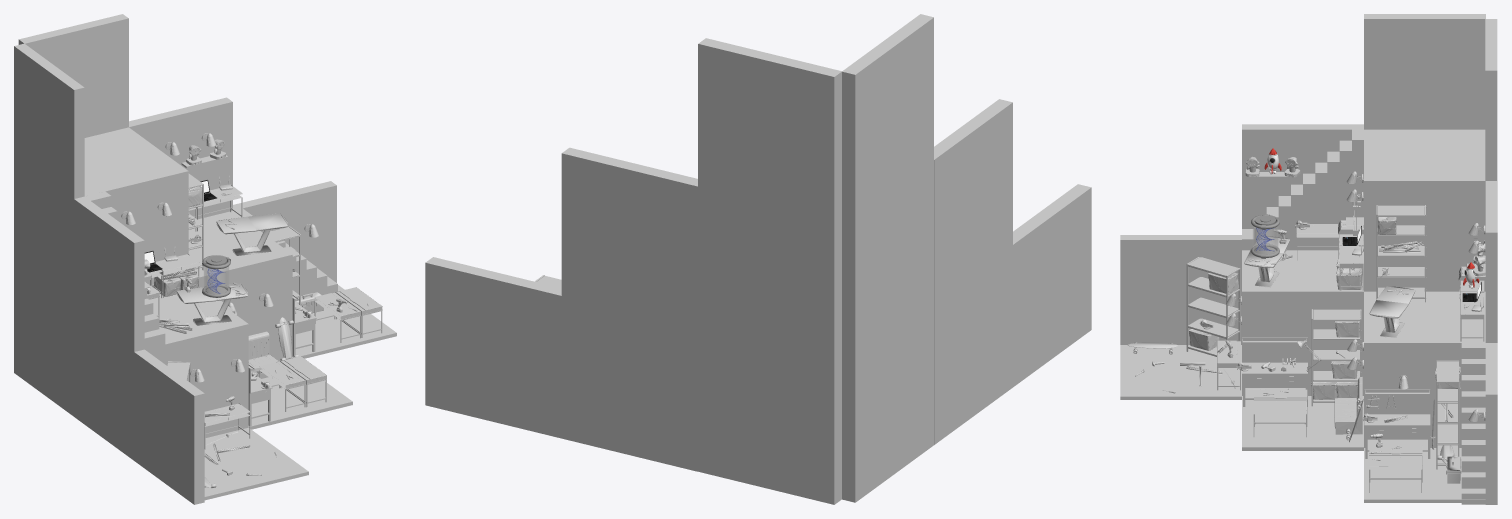
The model's file is display2.gltf.
The picture shows the model from 3 angles, left to right: view 1: azimuth 30°, elevation 25°; view 2: azimuth 150°, elevation 25°; view 3: azimuth 270°, elevation 25°; orthographic projection. The views are drawn at different scales.
Parts seen in each view (by area): view 1: Cube.008, Cube.014, Cube.005, Cube.019, Cube.012, Cube.013, Cube.004, Cube.006, Cube.021, Cube.018, Cube.001, Cube.017 (+18 smaller); view 2: Cube.013, Cube.008, Cube.006, Cube.014, Cube.021, Cube.019; view 3: Cube.005, Cube.008, Cube.019, Cube.004, Cube.012, Cube.015, Cube.014, Cube.018, Cube.001, Cube.010, Cube.017, bend1.002 (+27 smaller).
Part boxes in pixels (x1=…): Cube.008: x1=14, y1=43, x2=84, y2=416; Cube.014: x1=74, y1=196, x2=144, y2=460; Cube.005: x1=84, y1=127, x2=188, y2=285; Cube.019: x1=134, y1=349, x2=204, y2=504; Cube.012: x1=145, y1=287, x2=248, y2=437; Cube.013: x1=18, y1=14, x2=128, y2=137; Cube.004: x1=188, y1=211, x2=292, y2=360; Cube.006: x1=129, y1=97, x2=232, y2=219; Cube.021: x1=233, y1=181, x2=336, y2=282; Cube.018: x1=204, y1=427, x2=308, y2=500; Cube.001: x1=248, y1=360, x2=352, y2=429; Cube.017: x1=292, y1=308, x2=396, y2=358; Cube.013: x1=698, y1=38, x2=841, y2=504; Cube.008: x1=842, y1=14, x2=933, y2=502; Cube.006: x1=561, y1=147, x2=697, y2=471; Cube.014: x1=934, y1=99, x2=1012, y2=444; Cube.021: x1=425, y1=257, x2=561, y2=438; Cube.019: x1=1013, y1=184, x2=1091, y2=387; Cube.005: x1=1364, y1=129, x2=1485, y2=291; Cube.008: x1=1364, y1=14, x2=1485, y2=129; Cube.019: x1=1120, y1=235, x2=1241, y2=344; Cube.004: x1=1364, y1=291, x2=1485, y2=447; Cube.012: x1=1242, y1=250, x2=1363, y2=395; Cube.015: x1=1242, y1=129, x2=1363, y2=250; Cube.014: x1=1242, y1=124, x2=1363, y2=228; Cube.018: x1=1120, y1=345, x2=1241, y2=399; Cube.001: x1=1242, y1=396, x2=1363, y2=450; Cube.010: x1=1461, y1=343, x2=1485, y2=504; Cube.017: x1=1364, y1=448, x2=1485, y2=502; bend1.002: x1=1364, y1=389, x2=1430, y2=458.
Bounding box in the file's own units: 6.2 × 6 × 6.19.
Materials: 22 (6 with a texture image).
